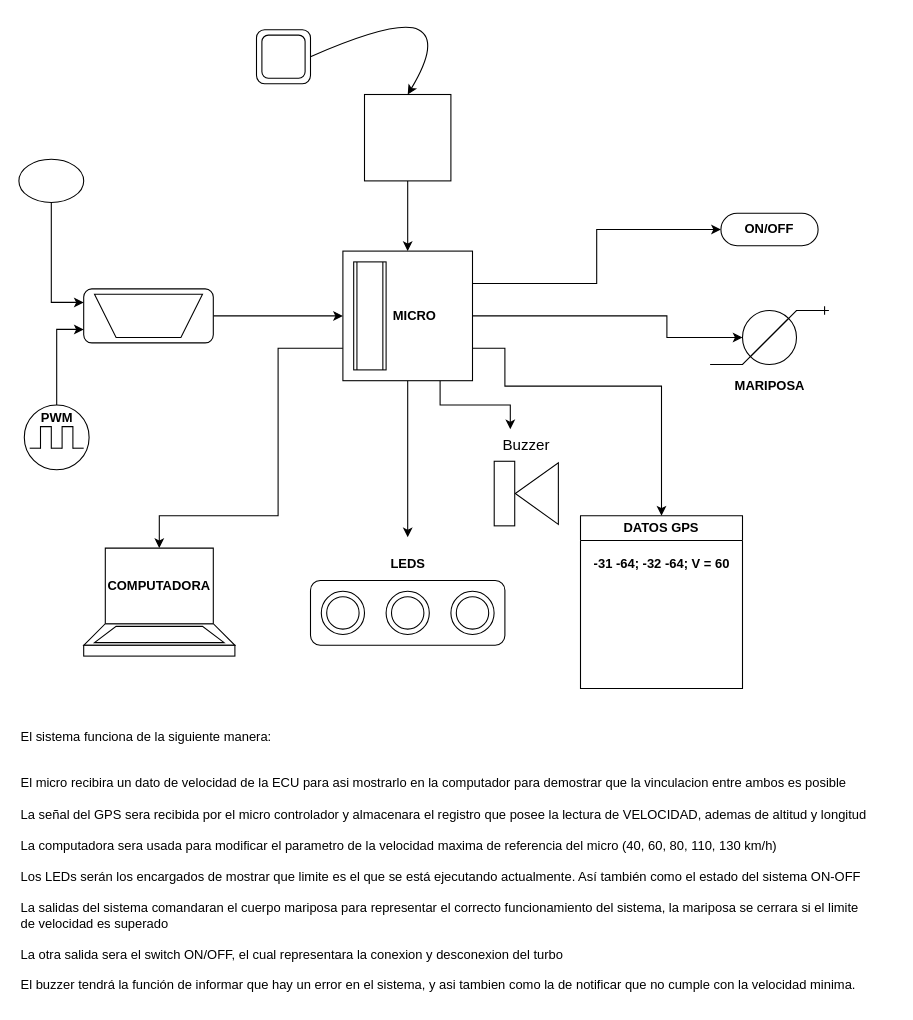
Image size: 913x1020. Some labels were removed from this diagram. The shapes that lost their labels are listed below. From the top down, each one's centre as x and y in pixels, then its label:
At (x=407, y=137): "GPS".
At (x=51, y=180): "ABS".
At (x=147, y=315): "ECU".
